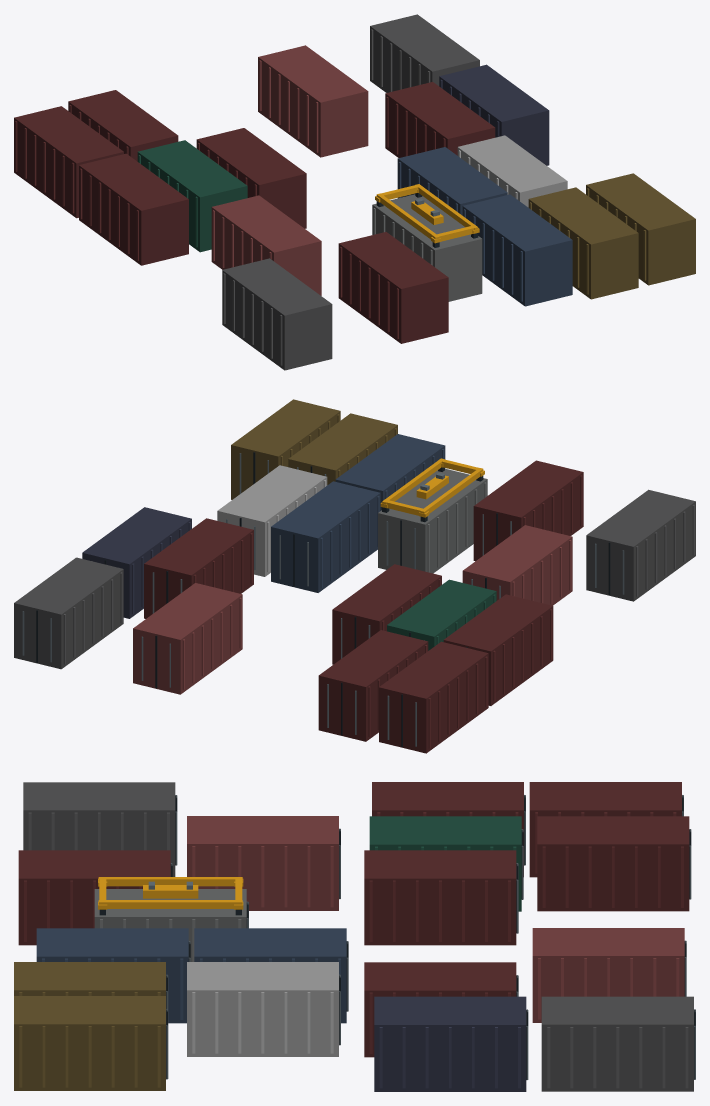
Rendered from SeaportSystem-01-Container-01-20Footer-1-07.glb.
3 renders of one model, top to bottom at view 1: azimuth 30°, elevation 25°; view 2: azimuth 150°, elevation 25°; view 3: azimuth 270°, elevation 25°, orthographic. The views are drawn at different scales.
Parts seen in each view (by area): view 1: SeaportSystem-01-Container-01-20Footer-1-07; view 2: SeaportSystem-01-Container-01-20Footer-1-07; view 3: SeaportSystem-01-Container-01-20Footer-1-07.
Part boxes in pixels (left/top/right/bottom): SeaportSystem-01-Container-01-20Footer-1-07: left=14, top=14, right=695, bottom=370; SeaportSystem-01-Container-01-20Footer-1-07: left=14, top=399, right=695, bottom=753; SeaportSystem-01-Container-01-20Footer-1-07: left=14, top=782, right=695, bottom=1091.
Size of the model in its own units: 50.17 by 8.25 by 59.18.
